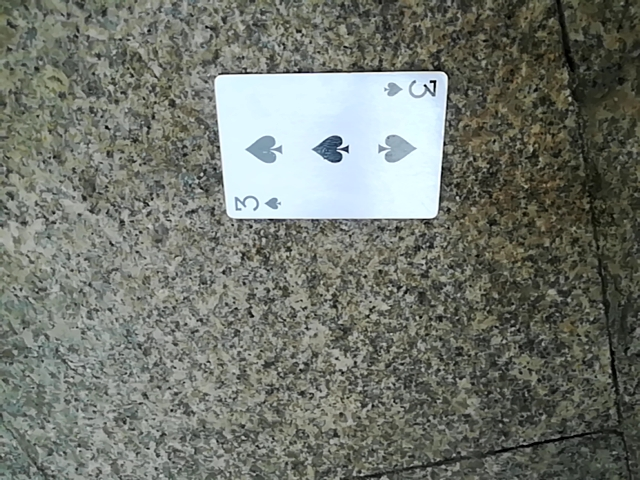ht 3: (215, 59, 448, 213)
